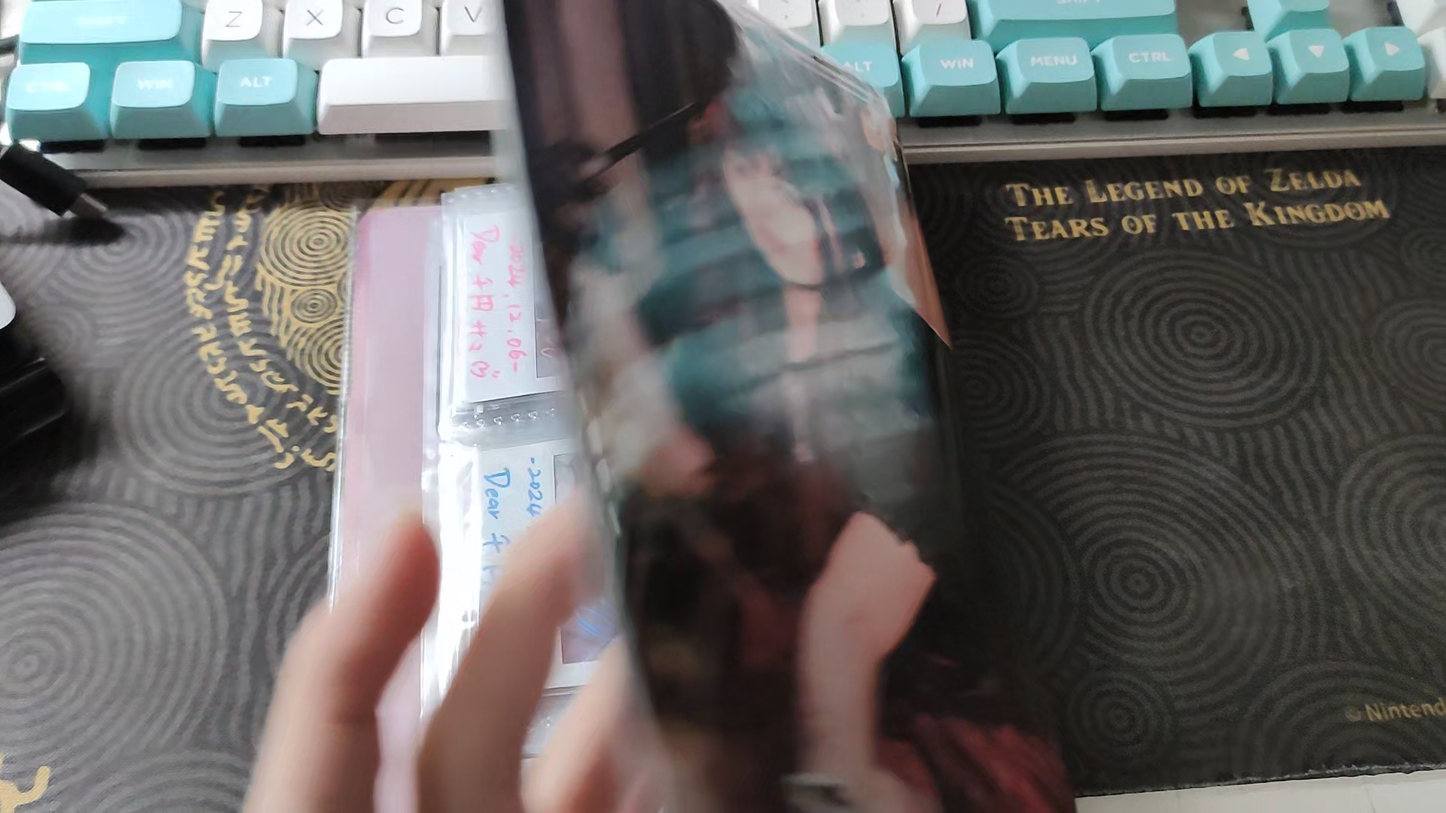Photo_book: (308, 0, 1078, 813)
